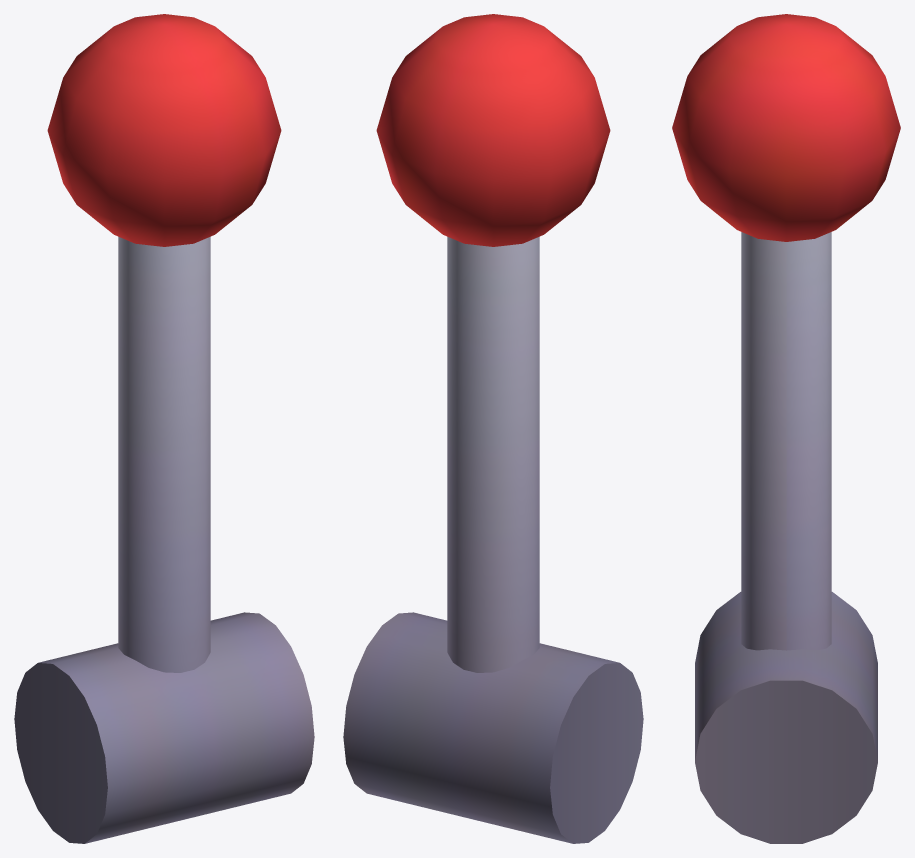
Rendered from lever_arm.glb.
3 renders of one model, left to right at view 1: azimuth 30°, elevation 25°; view 2: azimuth 150°, elevation 25°; view 3: azimuth 270°, elevation 25°, orthographic. The views are drawn at different scales.
Parts seen in each view (by area): view 1: Cylinder002_Material #26_0; view 2: Cylinder002_Material #26_0; view 3: Cylinder002_Material #26_0.
Part boxes in pixels (box(x1,y1,x2,y2)): Cylinder002_Material #26_0: box(14, 14, 314, 843); Cylinder002_Material #26_0: box(343, 14, 643, 843); Cylinder002_Material #26_0: box(672, 14, 900, 843).
Bounding box in the file's own units: 0.255 × 0.9282 × 0.25.
Materials: 1 (1 with a texture image).
